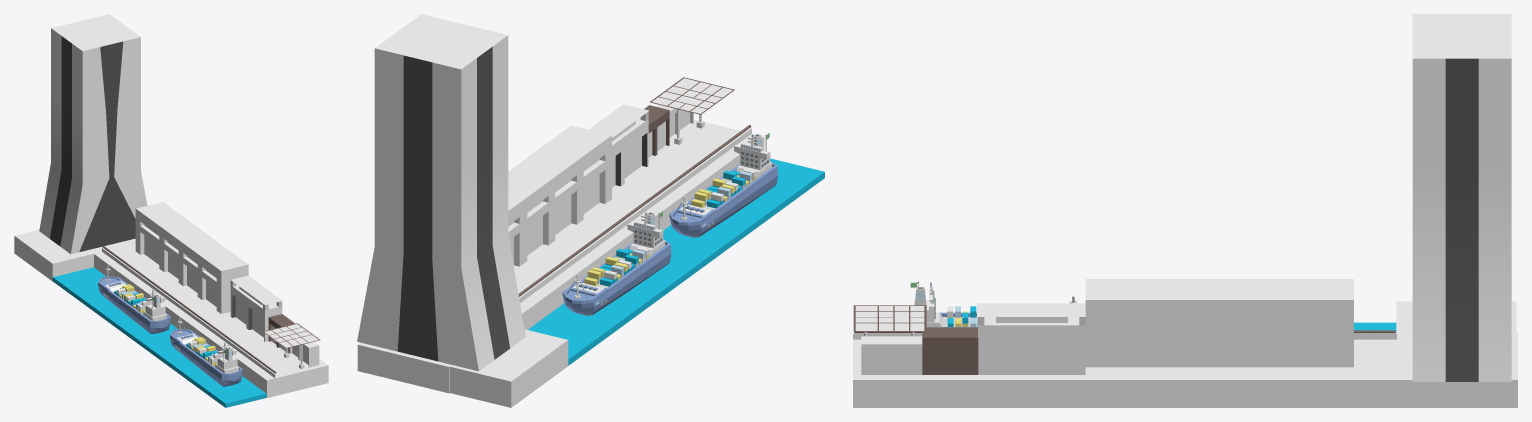
Rendered from Cmarseille.gltf.
3 views of the same model, side by side, from view 1: azimuth 30°, elevation 25°; view 2: azimuth 150°, elevation 25°; view 3: azimuth 270°, elevation 25° (orthographic). The views are drawn at different scales.
Parts seen in each view (by area): view 1: Cube.11-Greyscale Burst, sol (×2), Cube.11-mat23, Cube.10-Worktop 9, Eau, bateau-mat14 (×2), bateau-mat21 (×2), Cube.10-Greyscale Burst, Cube.4-Worktop 9, bare noir, Plane.1-Greyscale Burst, Plane (+5 smaller); view 2: Cube.11-Greyscale Burst, sol (×2), Cube.11-mat23 (×2), Eau, Cube.10-Worktop 9, bateau-mat14 (×2), bateau-mat21 (×2), Cube.10-Greyscale Burst, bare noir, Plane.1-Greyscale Burst, bateau-mat12 (×2), Cylinder (+7 smaller); view 3: sol (×2), Cube.11-Greyscale Burst, Cube.10-Worktop 9, Cube.11-mat23, Cube.4-Worktop 9, Cube.3-Bronze, Cube.2-Ceramic 1, Plane.1-Greyscale Burst, Plane, Plane.1-Bronze, bare noir.
Boxes of the visible parts, x1,y1,x2,y2 form: Cube.11-Greyscale Burst: [39, 14, 147, 254]; sol (×2): [14, 230, 328, 397]; Cube.11-mat23: [50, 36, 135, 251]; Cube.10-Worktop 9: [135, 202, 248, 313]; Eau: [52, 267, 266, 407]; bateau-mat14 (×2): [98, 276, 242, 386]; bateau-mat21 (×2): [105, 281, 238, 373]; Cube.10-Greyscale Burst: [144, 224, 216, 306]; Cube.4-Worktop 9: [230, 284, 282, 341]; bare noir: [102, 248, 275, 378]; Plane.1-Greyscale Burst: [265, 324, 318, 347]; Plane: [231, 275, 282, 304]; Cube.11-Greyscale Burst: [357, 14, 525, 371]; sol (×2): [357, 119, 764, 407]; Cube.11-mat23 (×2): [397, 47, 510, 361]; Eau: [528, 158, 824, 365]; Cube.10-Worktop 9: [508, 125, 611, 270]; bateau-mat14 (×2): [562, 161, 778, 314]; bateau-mat21 (×2): [573, 136, 772, 293]; Cube.10-Greyscale Burst: [508, 159, 604, 265]; bare noir: [519, 128, 751, 302]; Plane.1-Greyscale Burst: [652, 78, 732, 113]; bateau-mat12 (×2): [584, 175, 756, 285]; Cylinder: [518, 125, 751, 296]; sol (×2): [853, 301, 1517, 407]; Cube.11-Greyscale Burst: [1412, 14, 1511, 381]; Cube.10-Worktop 9: [1085, 279, 1353, 367]; Cube.11-mat23: [1445, 58, 1478, 381]; Cube.4-Worktop 9: [978, 317, 1085, 374]; Cube.3-Bronze: [922, 327, 978, 374]; Cube.2-Ceramic 1: [861, 336, 922, 374]; Plane.1-Greyscale Burst: [855, 306, 924, 330]; Plane: [977, 303, 1085, 316]; Plane.1-Bronze: [853, 305, 926, 331]; bare noir: [853, 333, 1396, 339].
Size of the model in its own units: 3.85 by 7.62 by 13.42.
